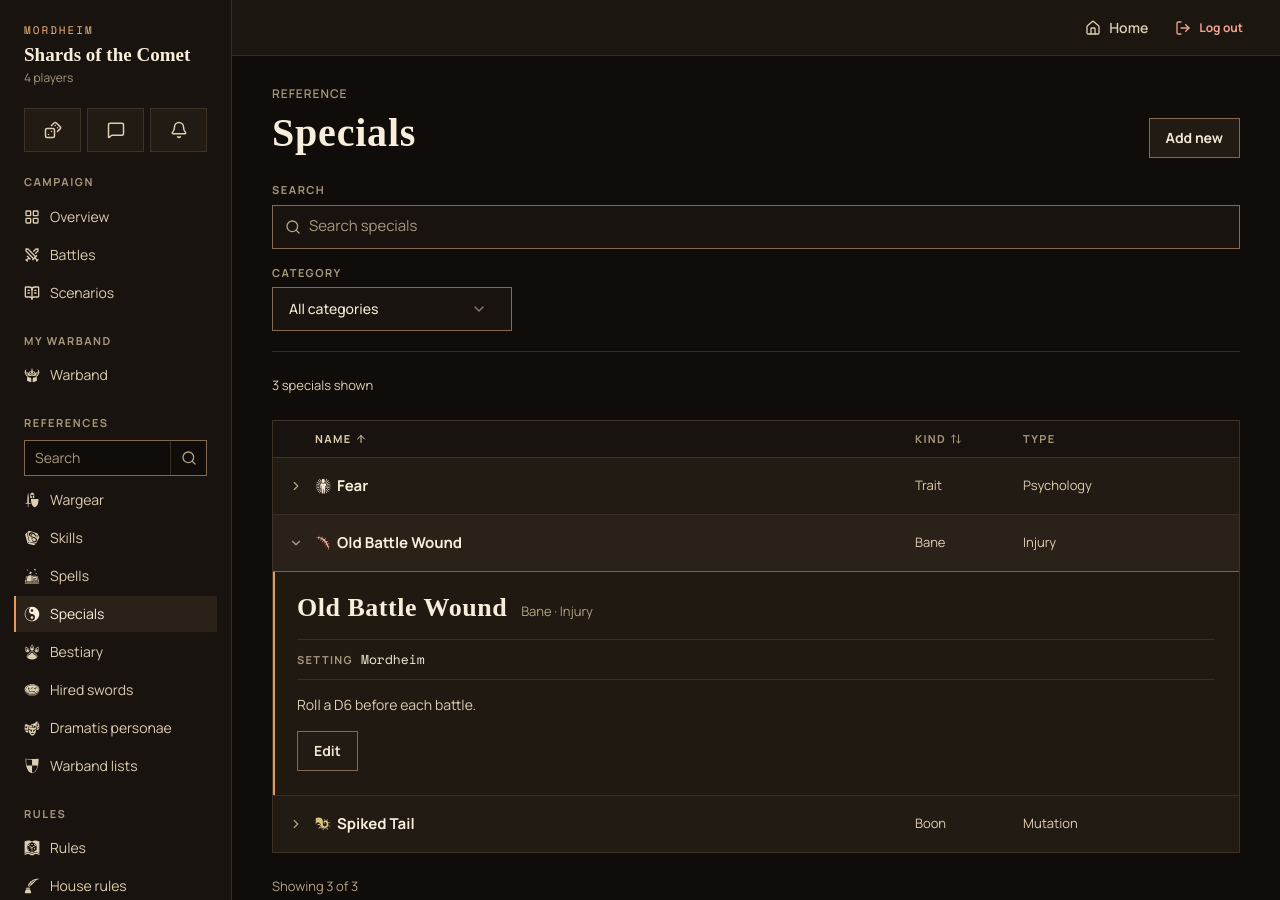
Test: Adding a special › edits one from its open row, a book one becoming the campaign's version
Click the button "Edit": (327, 751) [297,731,358,771]
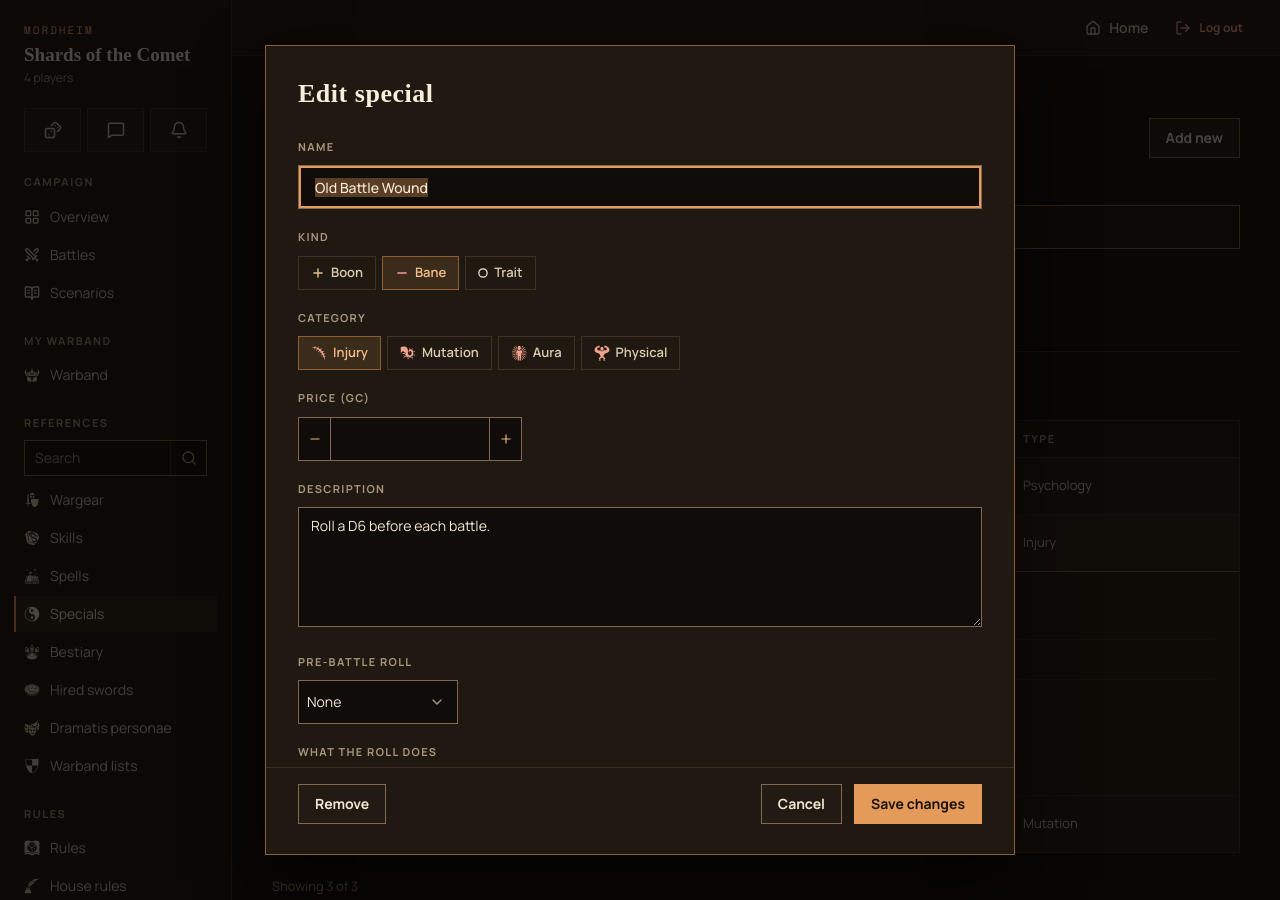
Check: the field labelled "Name" holds "Old Battle Wound", box [298,165,982,209]
Click the button "Trait": (500, 272) [465,256,536,290]
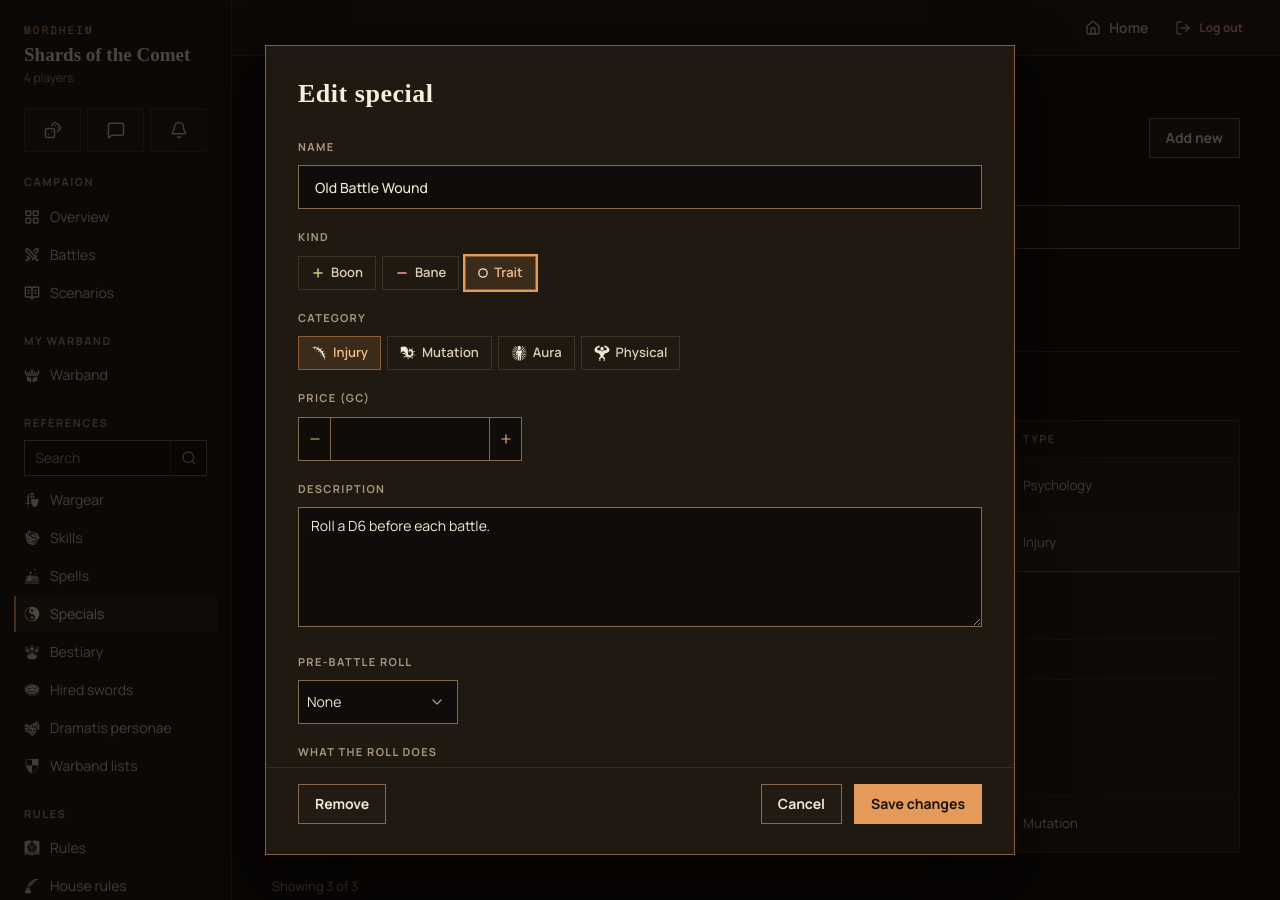
Click the button "Save changes": (918, 804) [854,784,982,824]
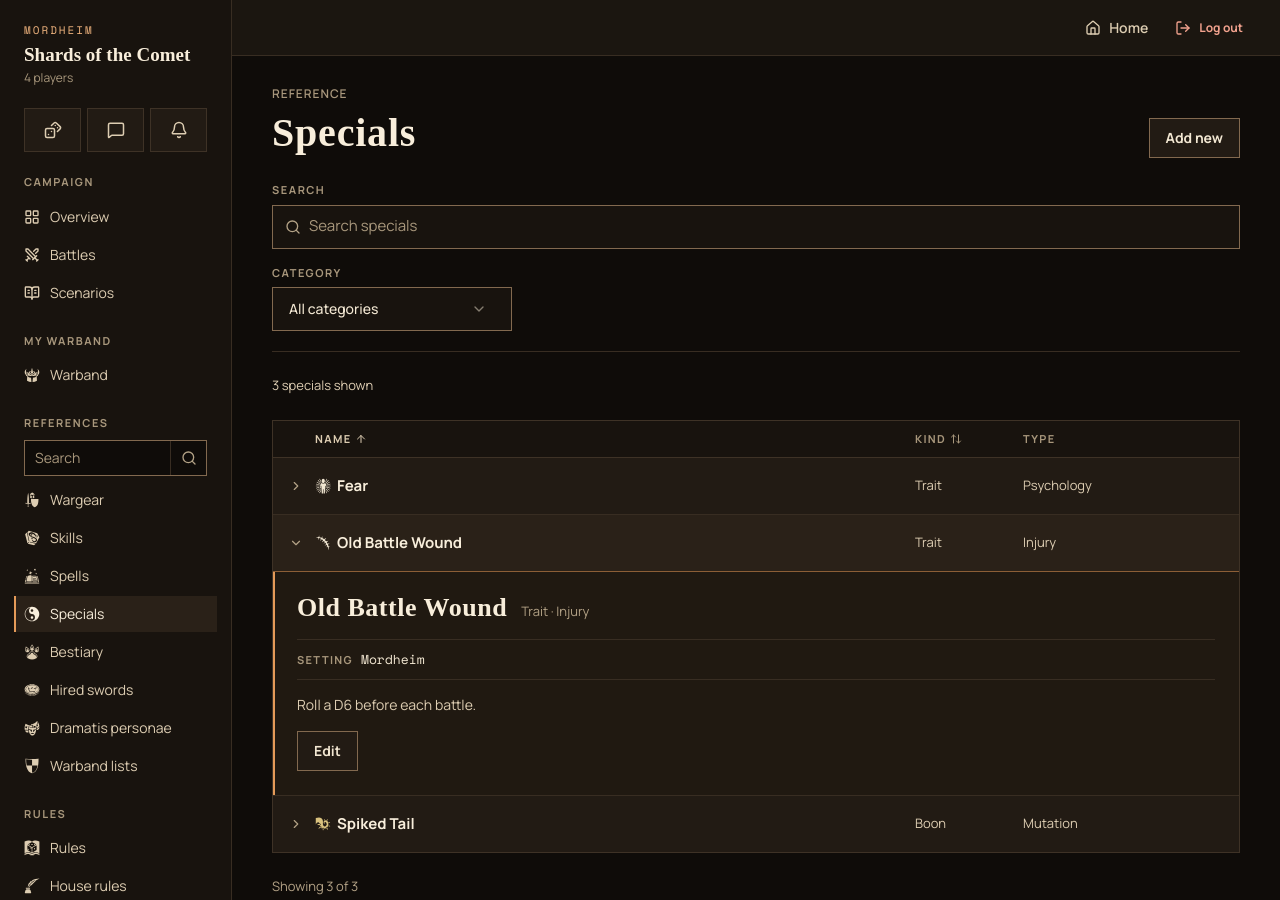
Check: the dialog is gone
